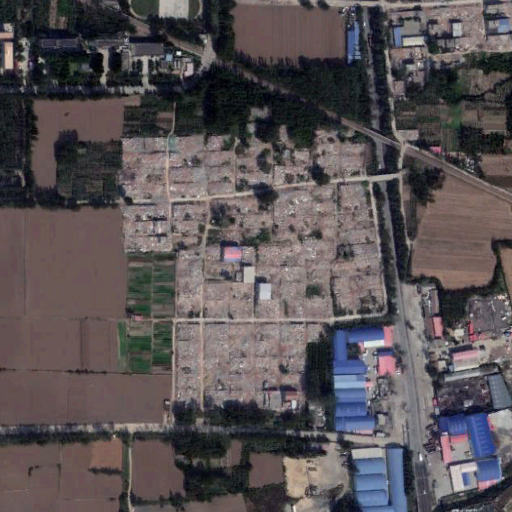cw: (122, 126, 388, 413)
